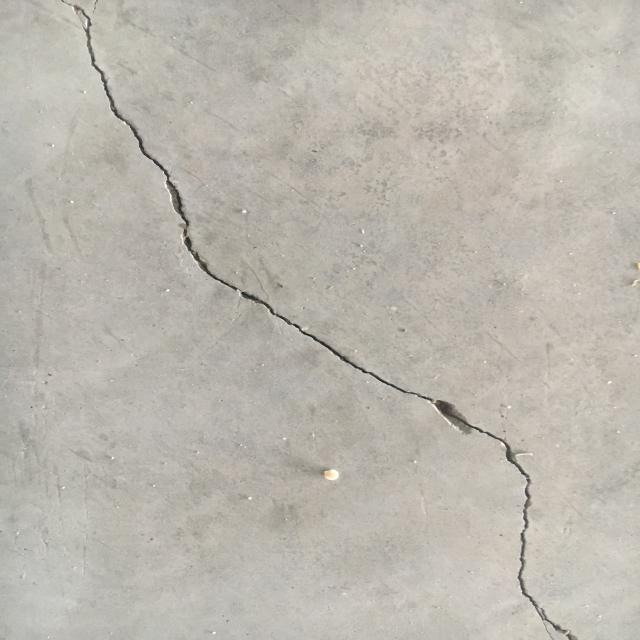Rachadura: (52, 0, 586, 640)
